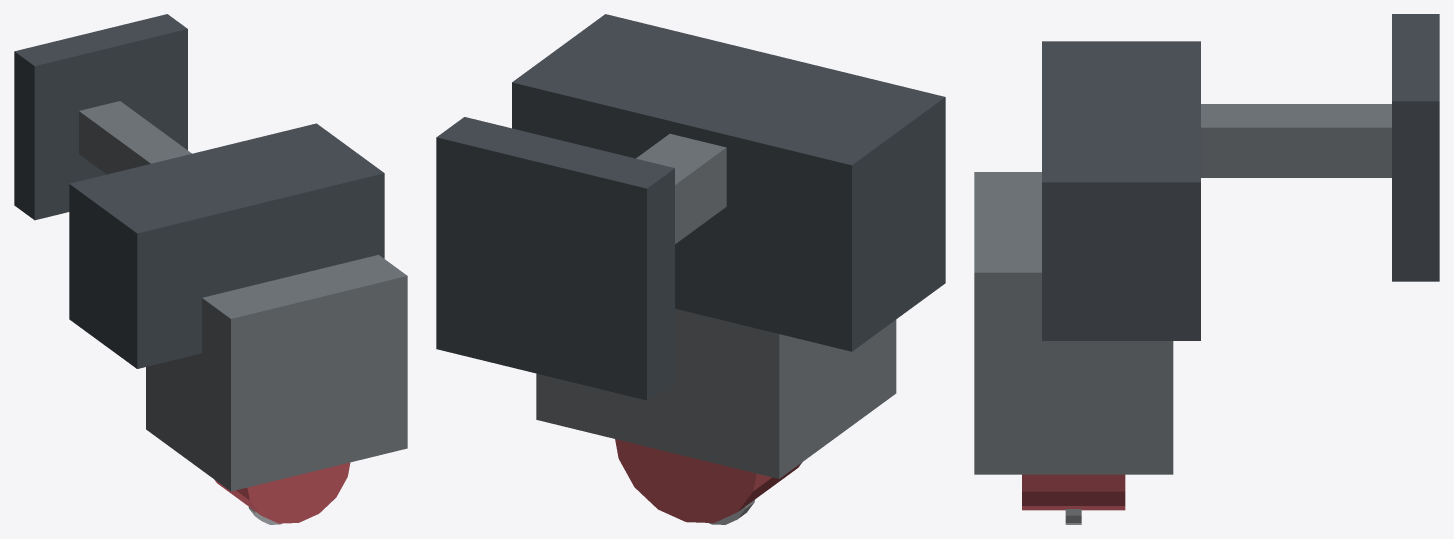
Rendered from surveillance-cctv-camera.glb.
3 views of the same model, side by side, from view 1: azimuth 30°, elevation 25°; view 2: azimuth 150°, elevation 25°; view 3: azimuth 270°, elevation 25° (orthographic). The views are drawn at different scales.
Parts seen in each view (by area): view 1: world; view 2: world; view 3: world.
Boxes of the visible parts, x1,y1,x2,y2 form: world: [14, 14, 407, 524]; world: [436, 14, 945, 524]; world: [974, 14, 1439, 524].
Size of the model in its own units: 0.42 by 0.62 by 0.585.
